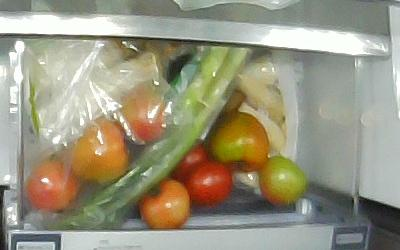tomato: (204, 110, 269, 171), (137, 175, 190, 229), (181, 157, 233, 208), (257, 155, 306, 206), (169, 144, 210, 184)
tomato_vinyl: (68, 117, 129, 183), (25, 157, 79, 211), (122, 84, 166, 141)
